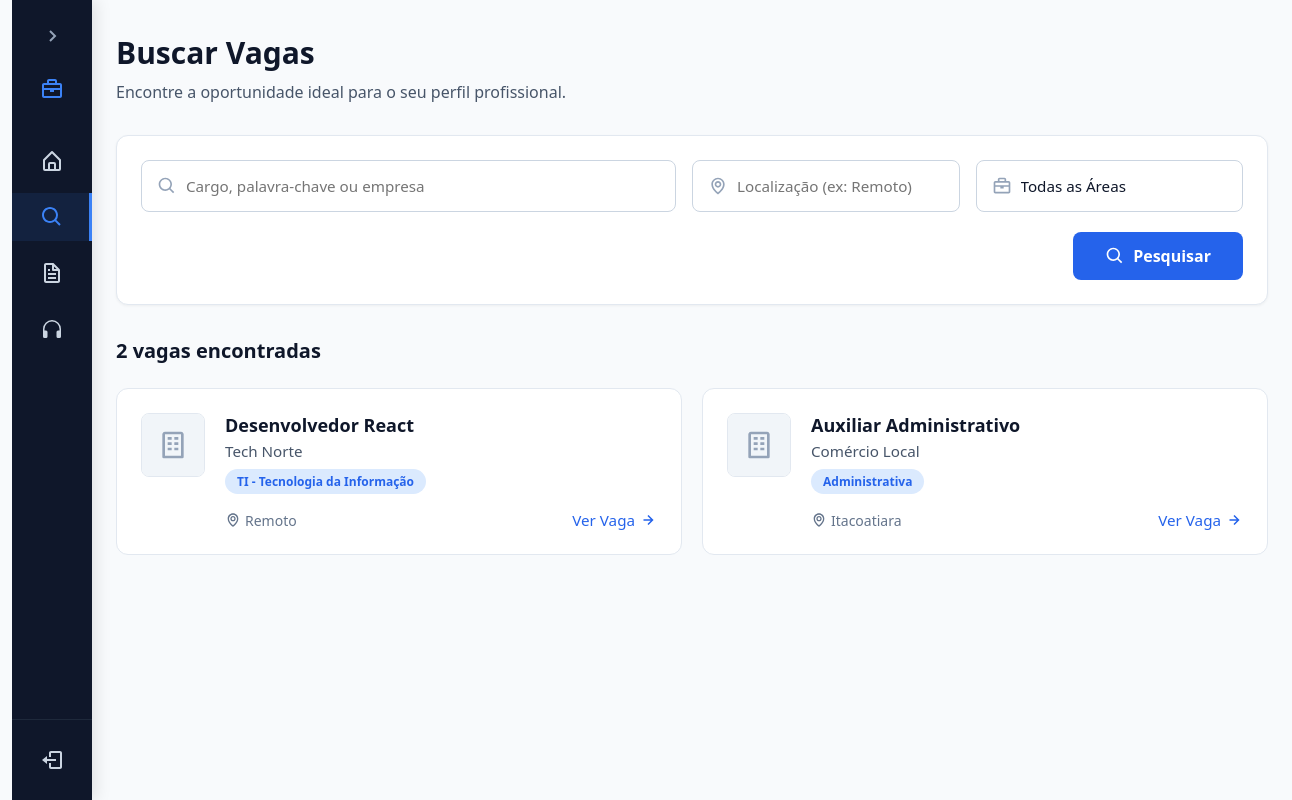
it: páginas críticas › deve renderizar busca de vagas e filtrar resultados visualmente
Expected: the heading "Buscar Vagas" is shown, x1=116 y1=32 x2=315 y2=73
Expected: the heading "2 vagas encontradas" is shown, x1=116 y1=337 x2=321 y2=364
In the field with placeholder "Cargo, palavra-chave ou empresa": x=408, y=186 x1=141 y1=160 x2=676 y2=212, type "React"
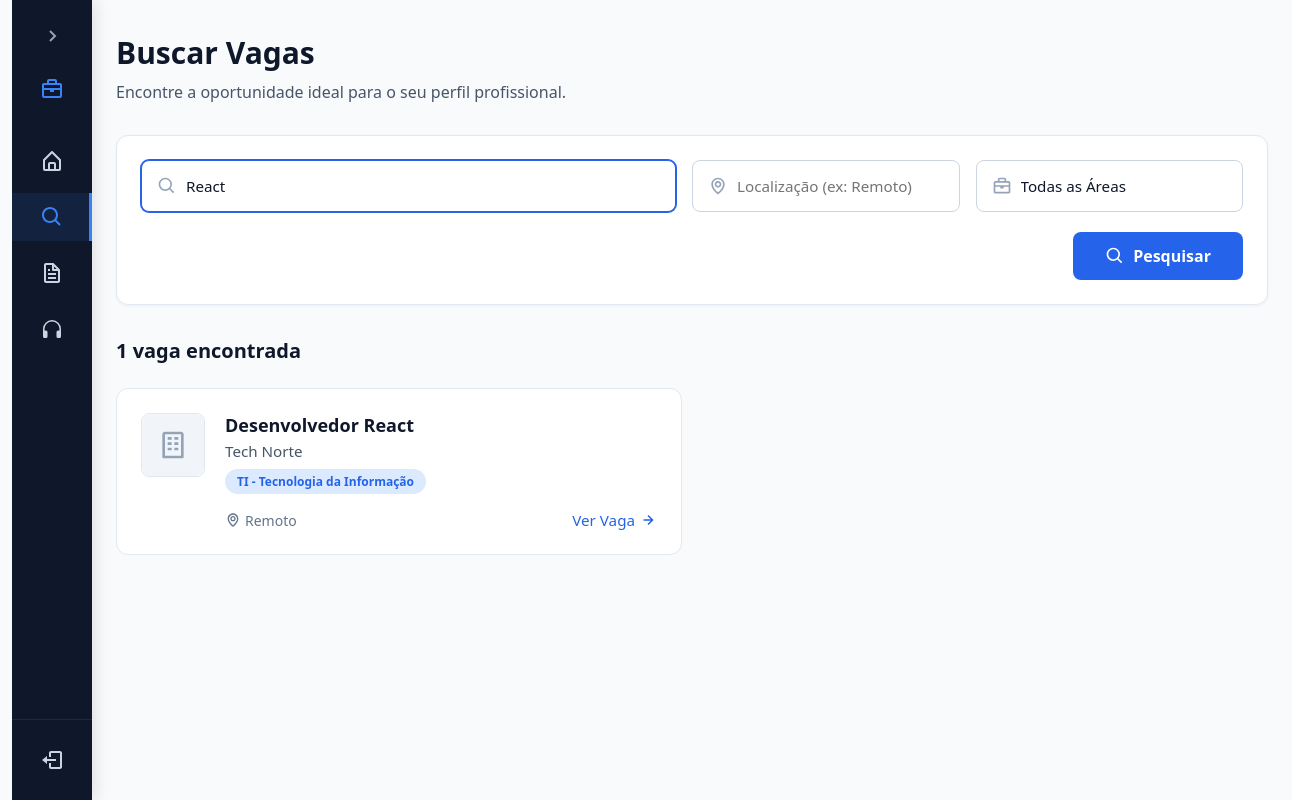
Expected: the heading "Desenvolvedor React" is shown, x1=225 y1=413 x2=414 y2=437
Expected: the heading "1 vaga encontrada" is shown, x1=116 y1=337 x2=301 y2=364
Expected: the heading "Auxiliar Administrativo" is gone
